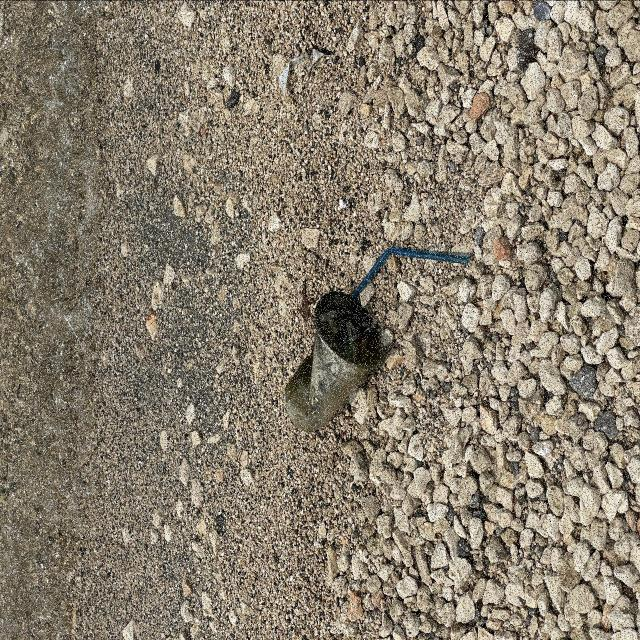plastic_waste: (284, 291, 382, 434), (351, 246, 470, 299)
